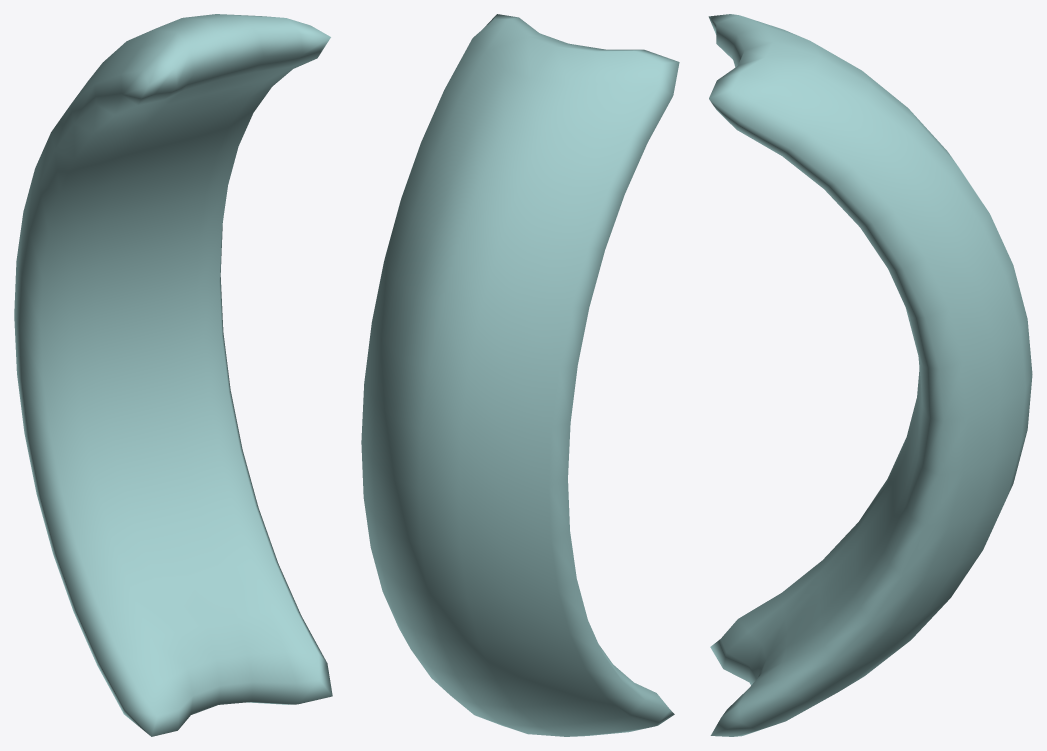
Rendered from Slash.fbx.
The picture shows the model from 3 angles, left to right: view 1: azimuth 30°, elevation 25°; view 2: azimuth 150°, elevation 25°; view 3: azimuth 270°, elevation 25°; orthographic projection. The views are drawn at different scales.
Parts seen in each view (by area): view 1: pTorus1; view 2: pTorus1; view 3: pTorus1.
Boxes of the visible parts, x1,y1,x2,y2 form: pTorus1: (14, 14, 332, 736); pTorus1: (361, 14, 679, 736); pTorus1: (708, 14, 1032, 736).
Bounding box in the file's own units: 3.81 × 12.18 × 5.39.
